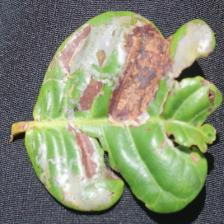leaf miner: (8, 10, 223, 214)
